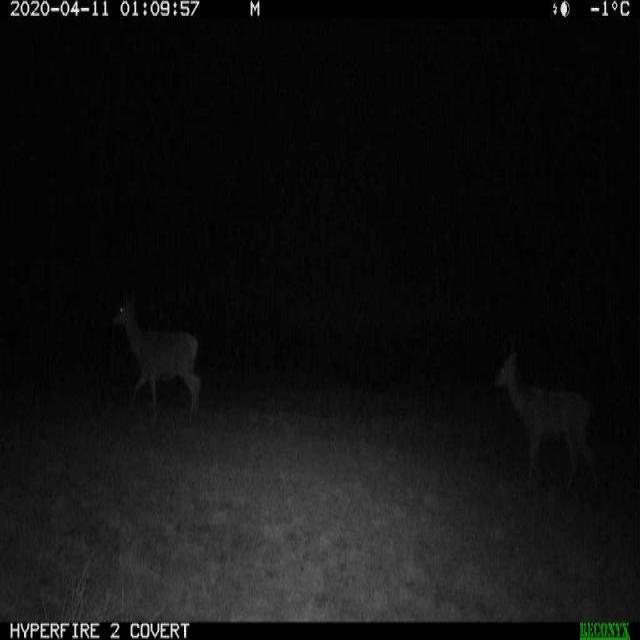deer: (486, 331, 606, 508), (104, 279, 206, 441)
